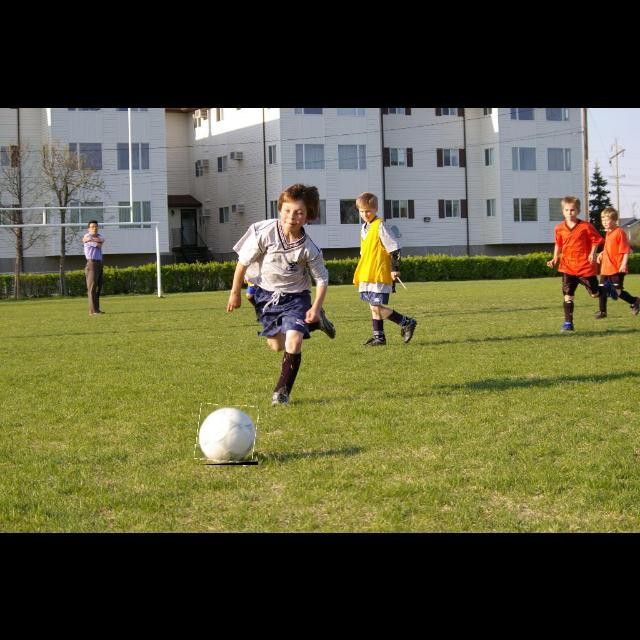Football: (196, 405, 258, 465)
